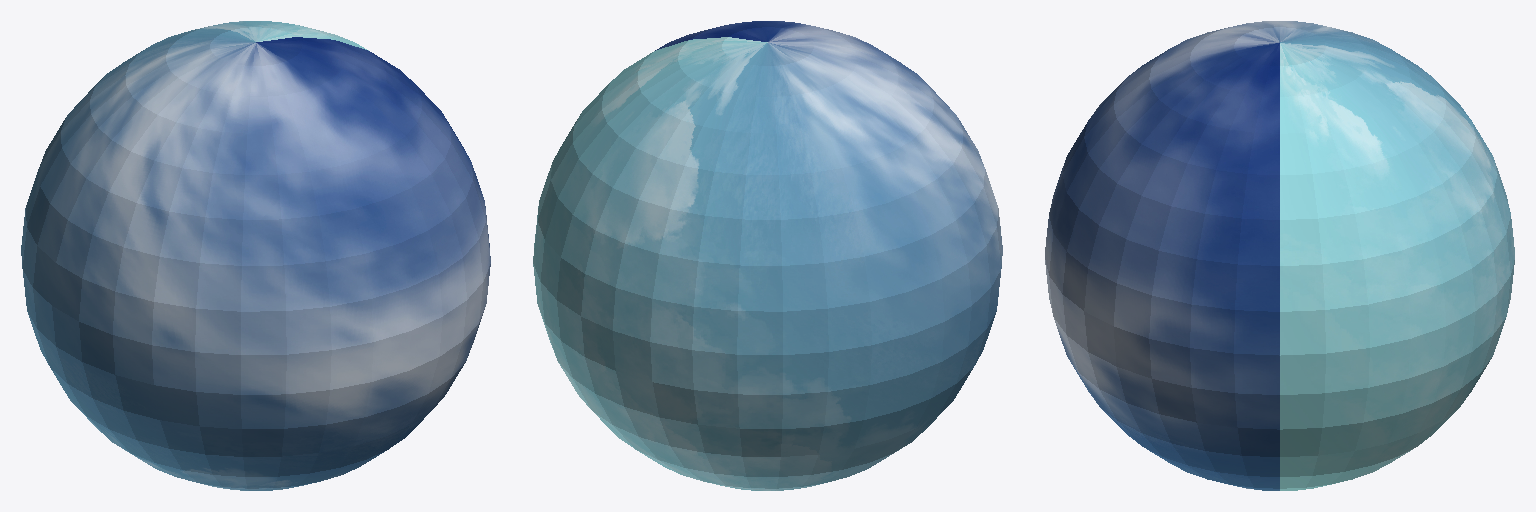
3 views of the same model, side by side, from view 1: azimuth 30°, elevation 25°; view 2: azimuth 150°, elevation 25°; view 3: azimuth 270°, elevation 25° (orthographic).
Visible parts, largest first — view 1: 球; view 2: 球; view 3: 球.
Part boxes in pixels (left/top/right/bottom): 球: left=21, top=21, right=490, bottom=490; 球: left=533, top=21, right=1002, bottom=490; 球: left=1045, top=21, right=1514, bottom=490.
Bounding box in the file's own units: 200 × 200 × 200.
Materials: 1 (1 with a texture image).